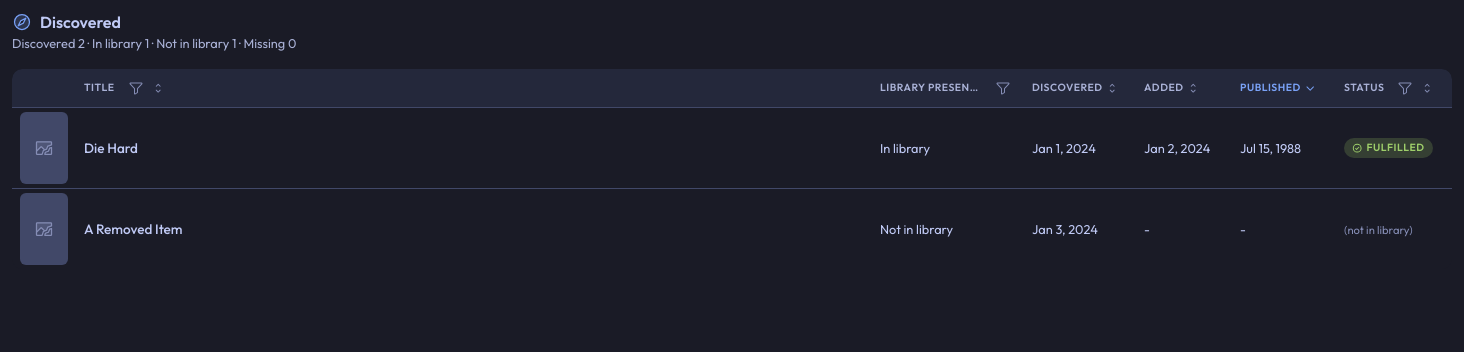
Test: WishlistDiscoveredList › composes filters, resets pagination, and clears them through the standard control
Click the button named "Filter by Library presence".
click(1003, 88)  # box [990,75,1016,101]
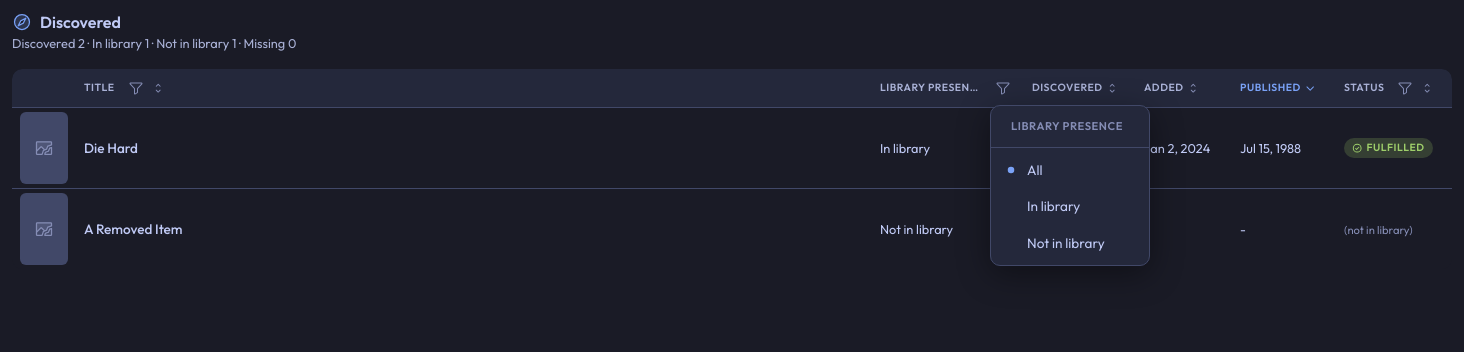
Click the menu item "In library".
click(1054, 206)  # box [1027,197,1080,215]
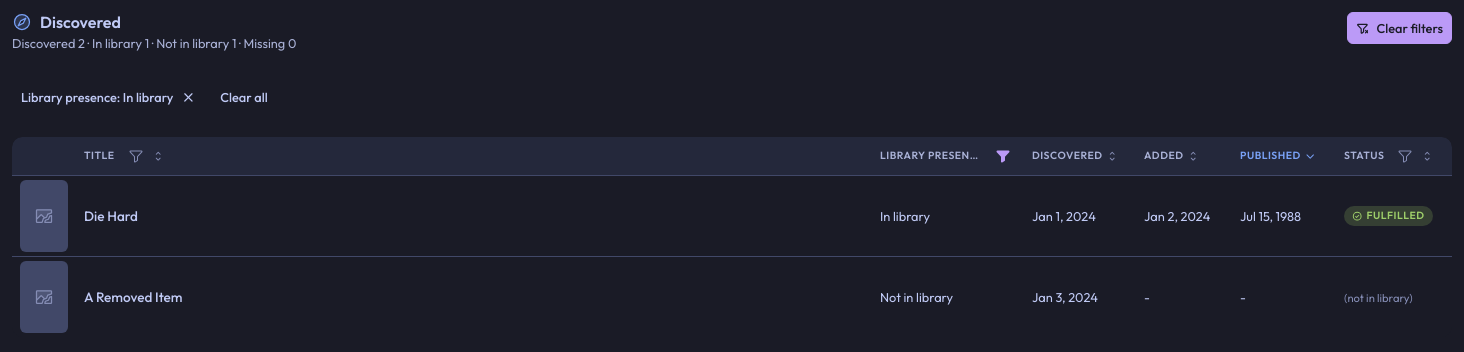
Click the button named "Filter by Status".
click(1405, 156)  # box [1392,143,1418,169]
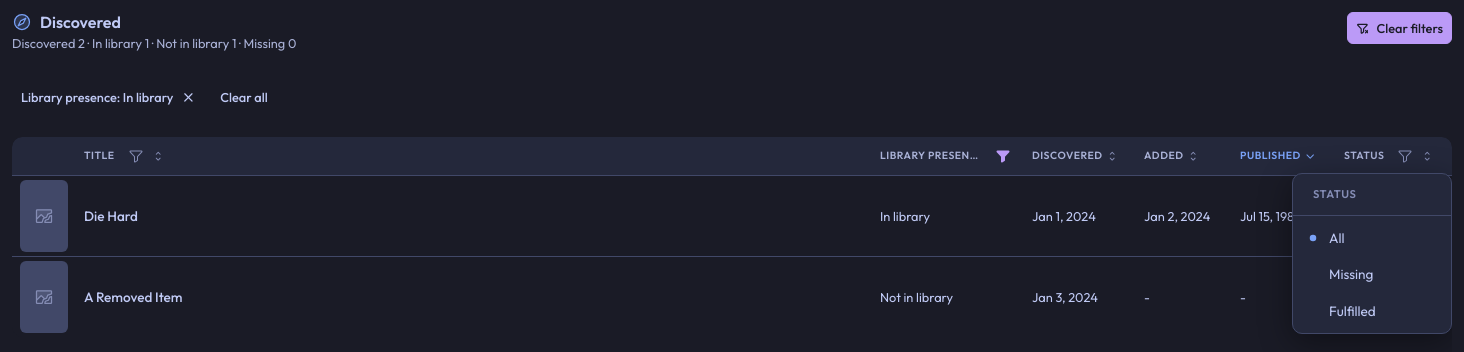
Click the menu item "Fulfilled".
click(1352, 311)  # box [1329,302,1376,320]
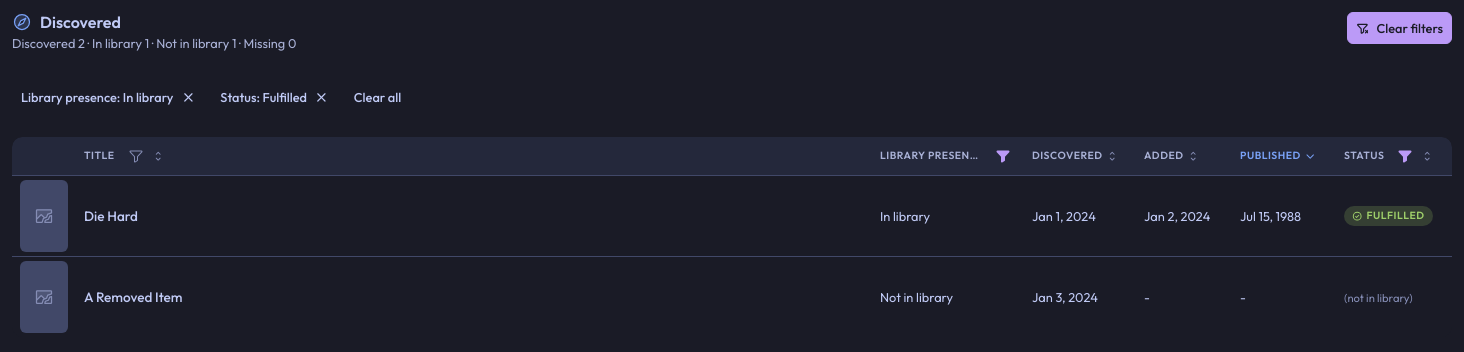
Click the button "Clear filters".
click(1399, 28)  # box [1347,12,1452,44]
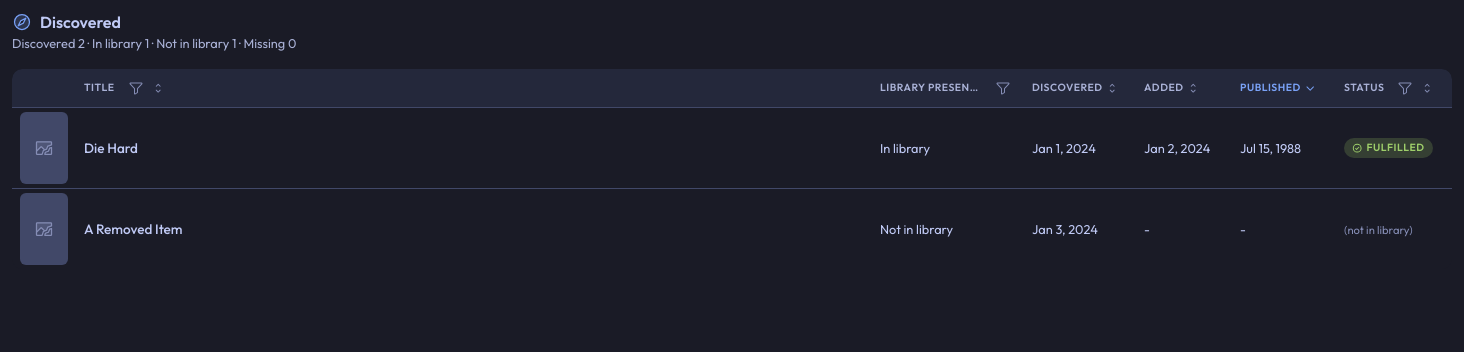
expect the button "Clear filters" is gone: met
